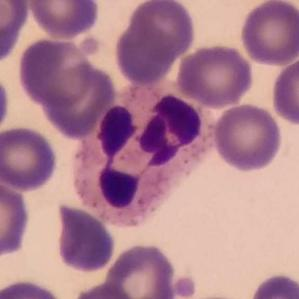Neutrophil: (67, 78, 220, 230)
Platelets: (171, 274, 198, 298)
RBC: (38, 58, 118, 138), (16, 35, 94, 110), (174, 41, 255, 109), (211, 102, 284, 173), (52, 200, 118, 274), (102, 241, 179, 299), (126, 0, 198, 60), (112, 21, 178, 85), (0, 123, 60, 192), (237, 0, 298, 67), (26, 0, 102, 41), (0, 178, 33, 260), (269, 54, 299, 127), (0, 0, 32, 66), (0, 276, 71, 299), (246, 271, 299, 298), (68, 281, 140, 299), (0, 71, 12, 139)
